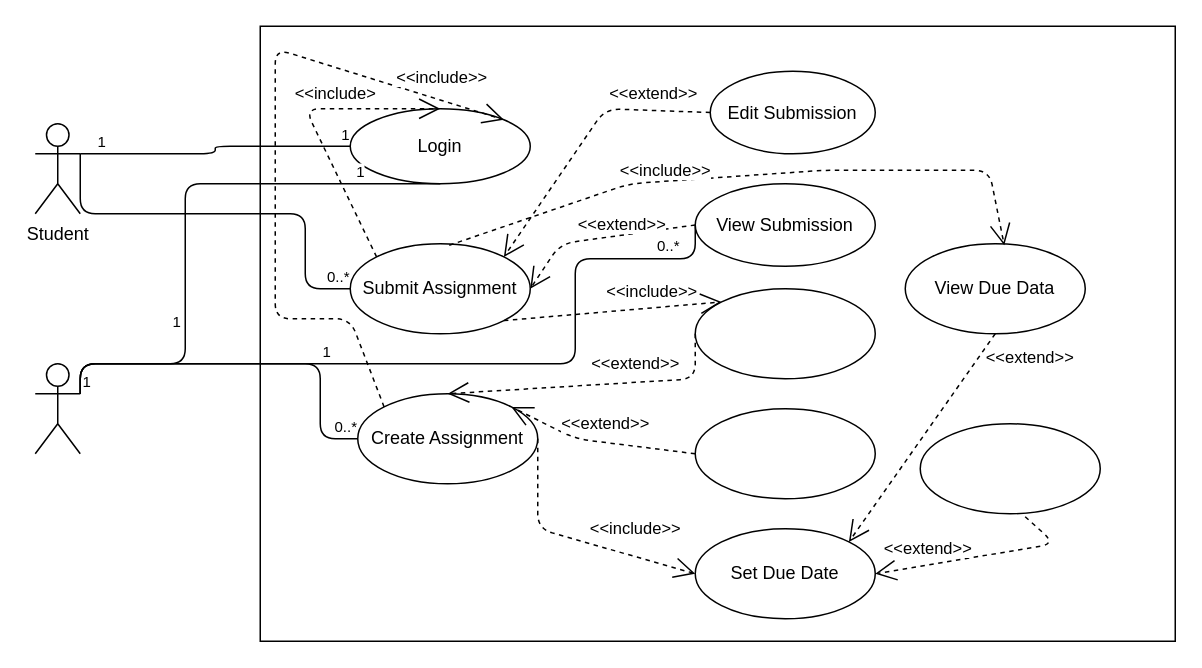
Image size: 1202x668. Some labels were removed from this diagram. The centre of each missing label's shape, as x and y in pixels:
Edit Assignment: the point at 784,453
Edit Due Data: the point at 1009,468
Teacher: the point at 57,408
View Assignment: the point at 784,333
